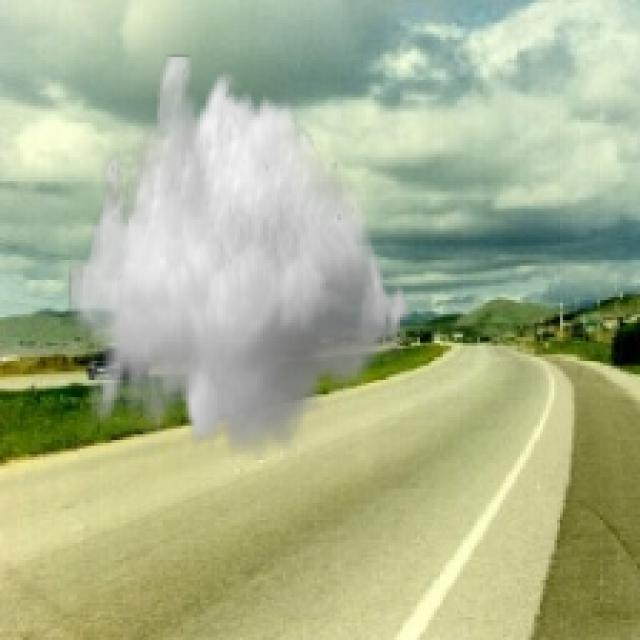smoke: (69, 54, 417, 460)
